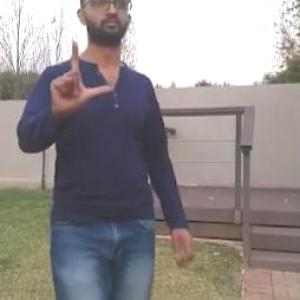land_hand: (48, 37, 113, 118)
